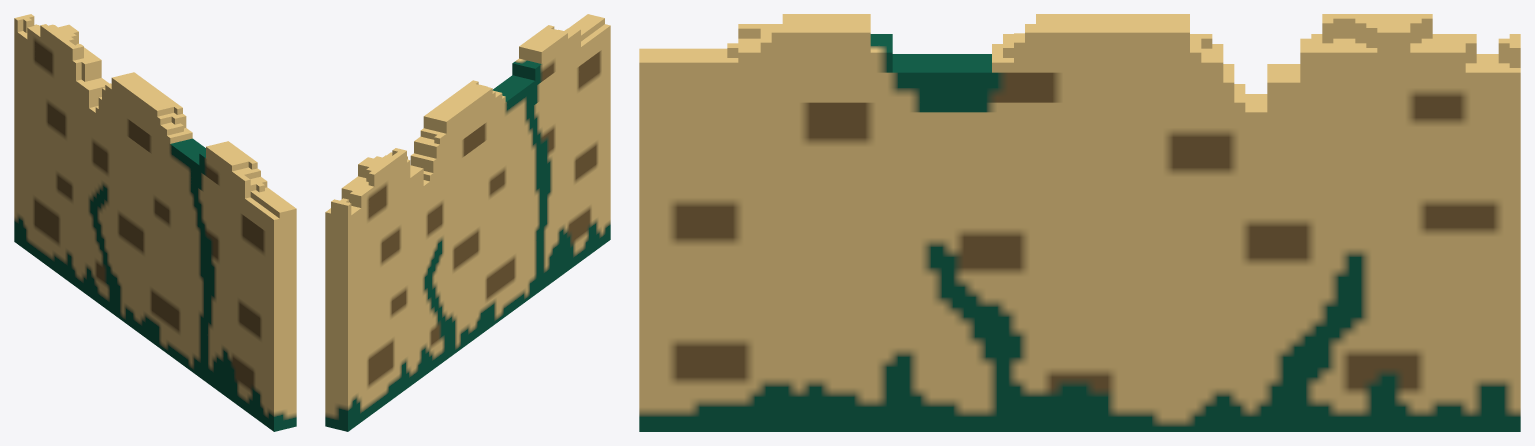
File: wall outside 2.obj
3 renders of one model, left to right at view 1: azimuth 30°, elevation 25°; view 2: azimuth 150°, elevation 25°; view 3: azimuth 270°, elevation 25°, orthographic. The views are drawn at different scales.
Parts seen in each view (by area): view 1: walloutside2; view 2: walloutside2; view 3: walloutside2.
Boxes of the visible parts, x1,y1,x2,y2 form: walloutside2: (14,14,296,431); walloutside2: (325,14,610,431); walloutside2: (639,14,1520,431).
Bounding box in the file's own units: 4 × 40 × 80.
1 material, 1 textured.
